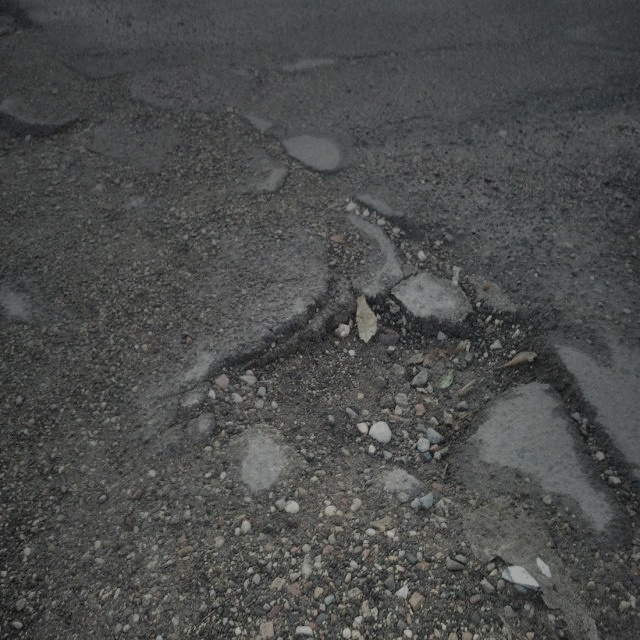pothole: (191, 265, 548, 504)
